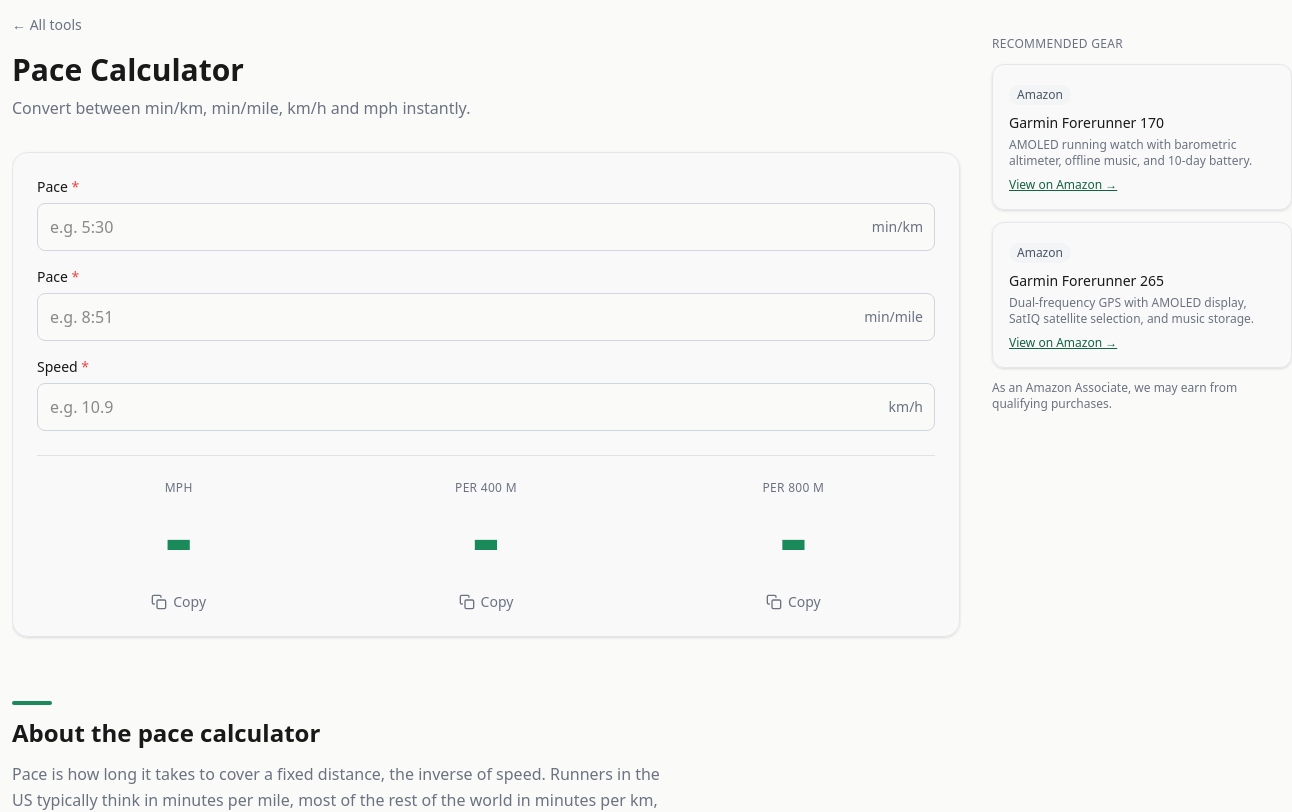
Scenario: Pace Calculator page › min/km → cross-update › typing 5:30 in min/km updates min/mile to 8:51
The image size is (1292, 812).
Type "5:30" into the 1st field labelled "Pace *" at (486, 227), box 37,203 -> 935,251
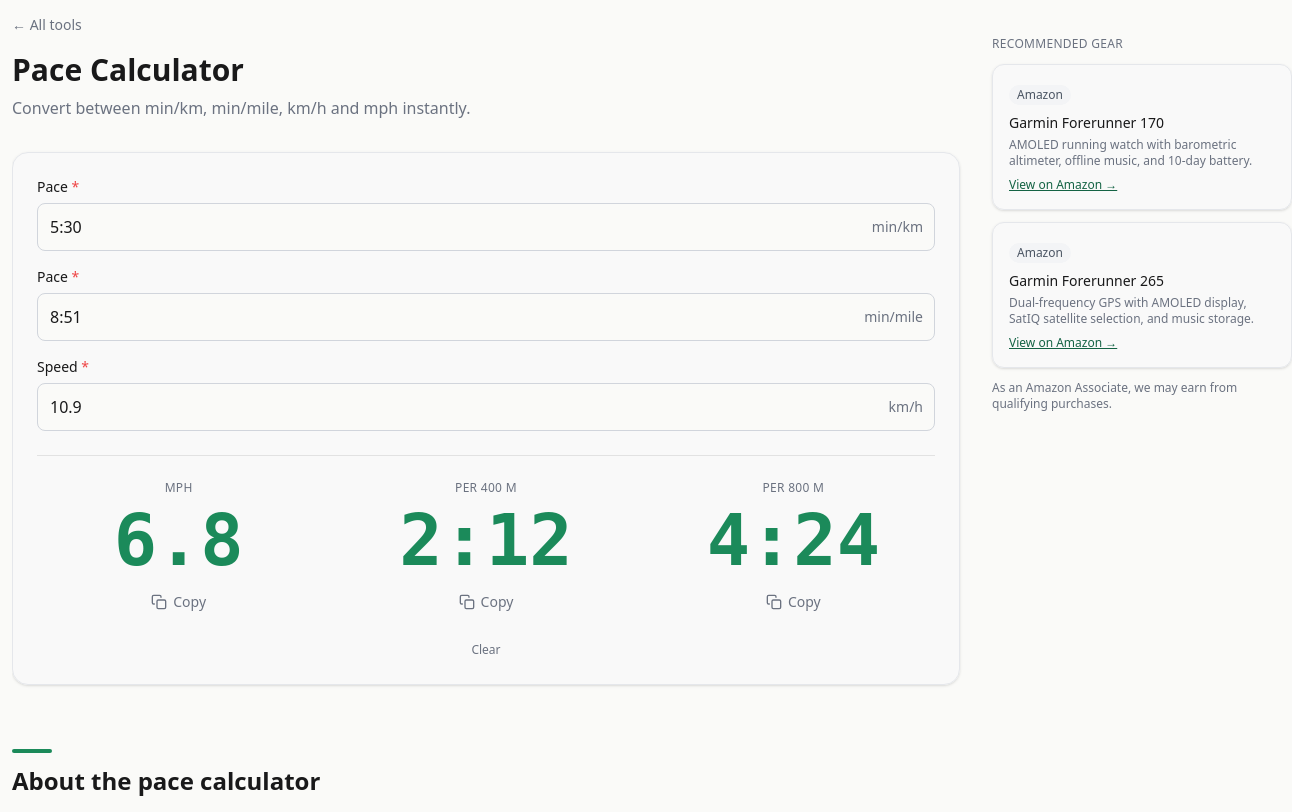
Now the 2nd field labelled "Pace *" holds "8:51", box 37,293 -> 935,341
